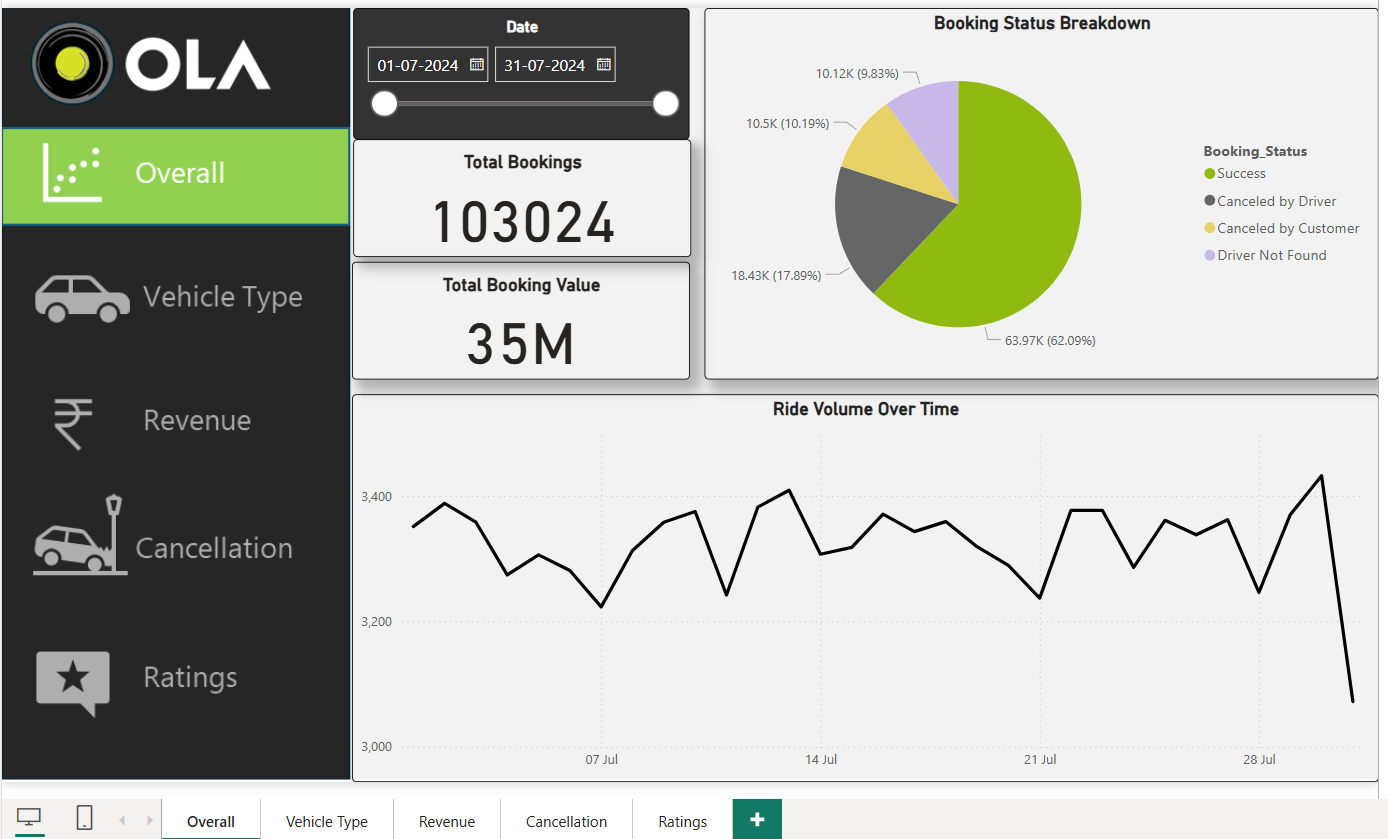

This screenshot's page, from the dashboard's own definition file:
{"tool":"powerbi","page":{"name":"Overall","canvas":[1280,720],"ordinal":0},"visuals":[{"type":"actionButton","box":[0,222,324.5,88.1],"z":0},{"type":"actionButton","box":[1.2,334.2,324.5,88.1],"z":1000},{"type":"actionButton","box":[1.2,441.6,324.5,101.3],"z":2000},{"type":"actionButton","box":[1.2,574.3,324.5,101.3],"z":3000},{"type":"lineChart","title":"Ride Volume Over Time","fields":{"Y":["CountNonNull(July.Booking_ID)"],"Category":["July.Date"]},"box":[325.2,359.5,955.1,360.9],"z":4000},{"type":"pieChart","title":"Booking Status Breakdown","fields":{"Category":["July.Booking_Status"],"Y":["CountNonNull(July.Booking_Status)"]},"box":[653.2,0,627.1,345.8],"z":5000},{"type":"slicer","title":"Date","fields":{"Values":["July.Date"]},"box":[326.6,0,312.9,122.1],"z":6000},{"type":"card","title":"Total Bookings ","fields":{"Values":["CountNonNull(July.Booking_Status)"]},"box":[326.6,122.1,314.2,109.8],"z":7000},{"type":"card","title":"Total Booking Value ","fields":{"Values":["Sum(July.Booking_Value)"]},"box":[325.2,236,314.2,109.8],"z":8000}]}

Visuals, with their boxes in screenshot pixels (x1, y1, x2, y2):
actionButton: l=0, t=241, r=347, b=335
actionButton: l=1, t=361, r=348, b=455
actionButton: l=1, t=476, r=348, b=584
actionButton: l=1, t=618, r=348, b=726
"Ride Volume Over Time" lineChart: l=348, t=388, r=1369, b=774
"Booking Status Breakdown" pieChart: l=699, t=4, r=1369, b=373
"Date" slicer: l=349, t=4, r=684, b=134
"Total Bookings " card: l=349, t=134, r=685, b=252
"Total Booking Value " card: l=348, t=256, r=684, b=373
